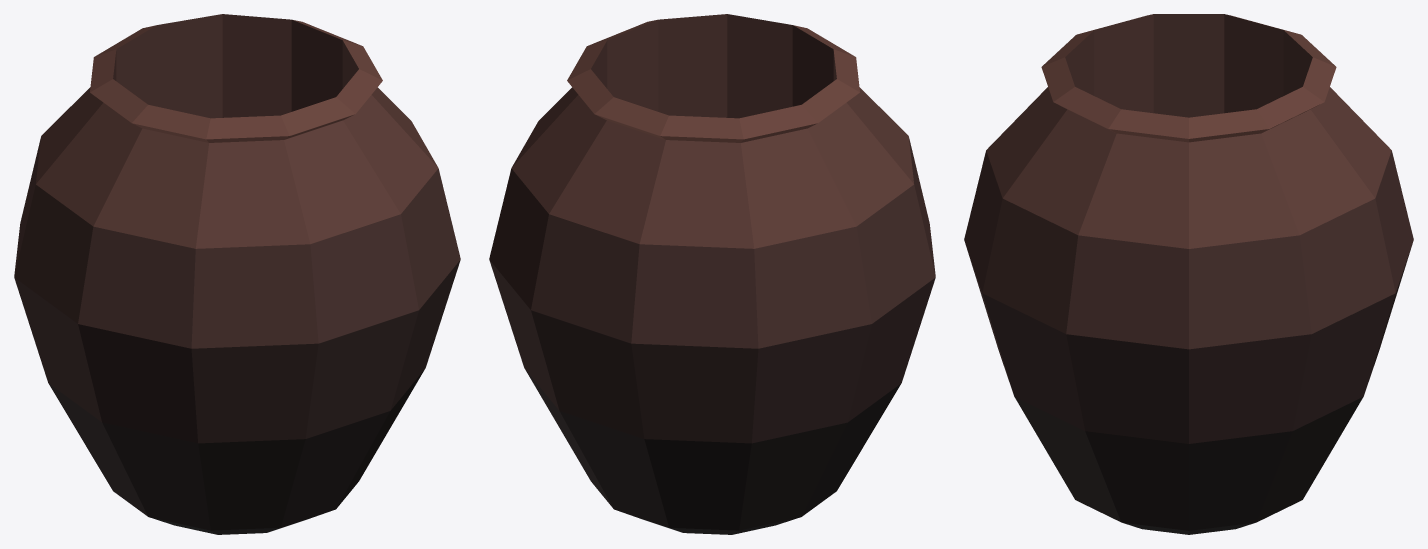
The model's file is Prop_PotA.fbx.
3 renders of one model, left to right at view 1: azimuth 30°, elevation 25°; view 2: azimuth 150°, elevation 25°; view 3: azimuth 270°, elevation 25°, orthographic.
Visible parts, largest first — view 1: Prop_PotA; view 2: Prop_PotA; view 3: Prop_PotA.
Boxes of the visible parts, bbox=[...] form: Prop_PotA: bbox=[14, 14, 460, 534]; Prop_PotA: bbox=[489, 14, 935, 534]; Prop_PotA: bbox=[964, 14, 1413, 534].
Size of the model in its own units: 34.87 by 37.46 by 35.23.
